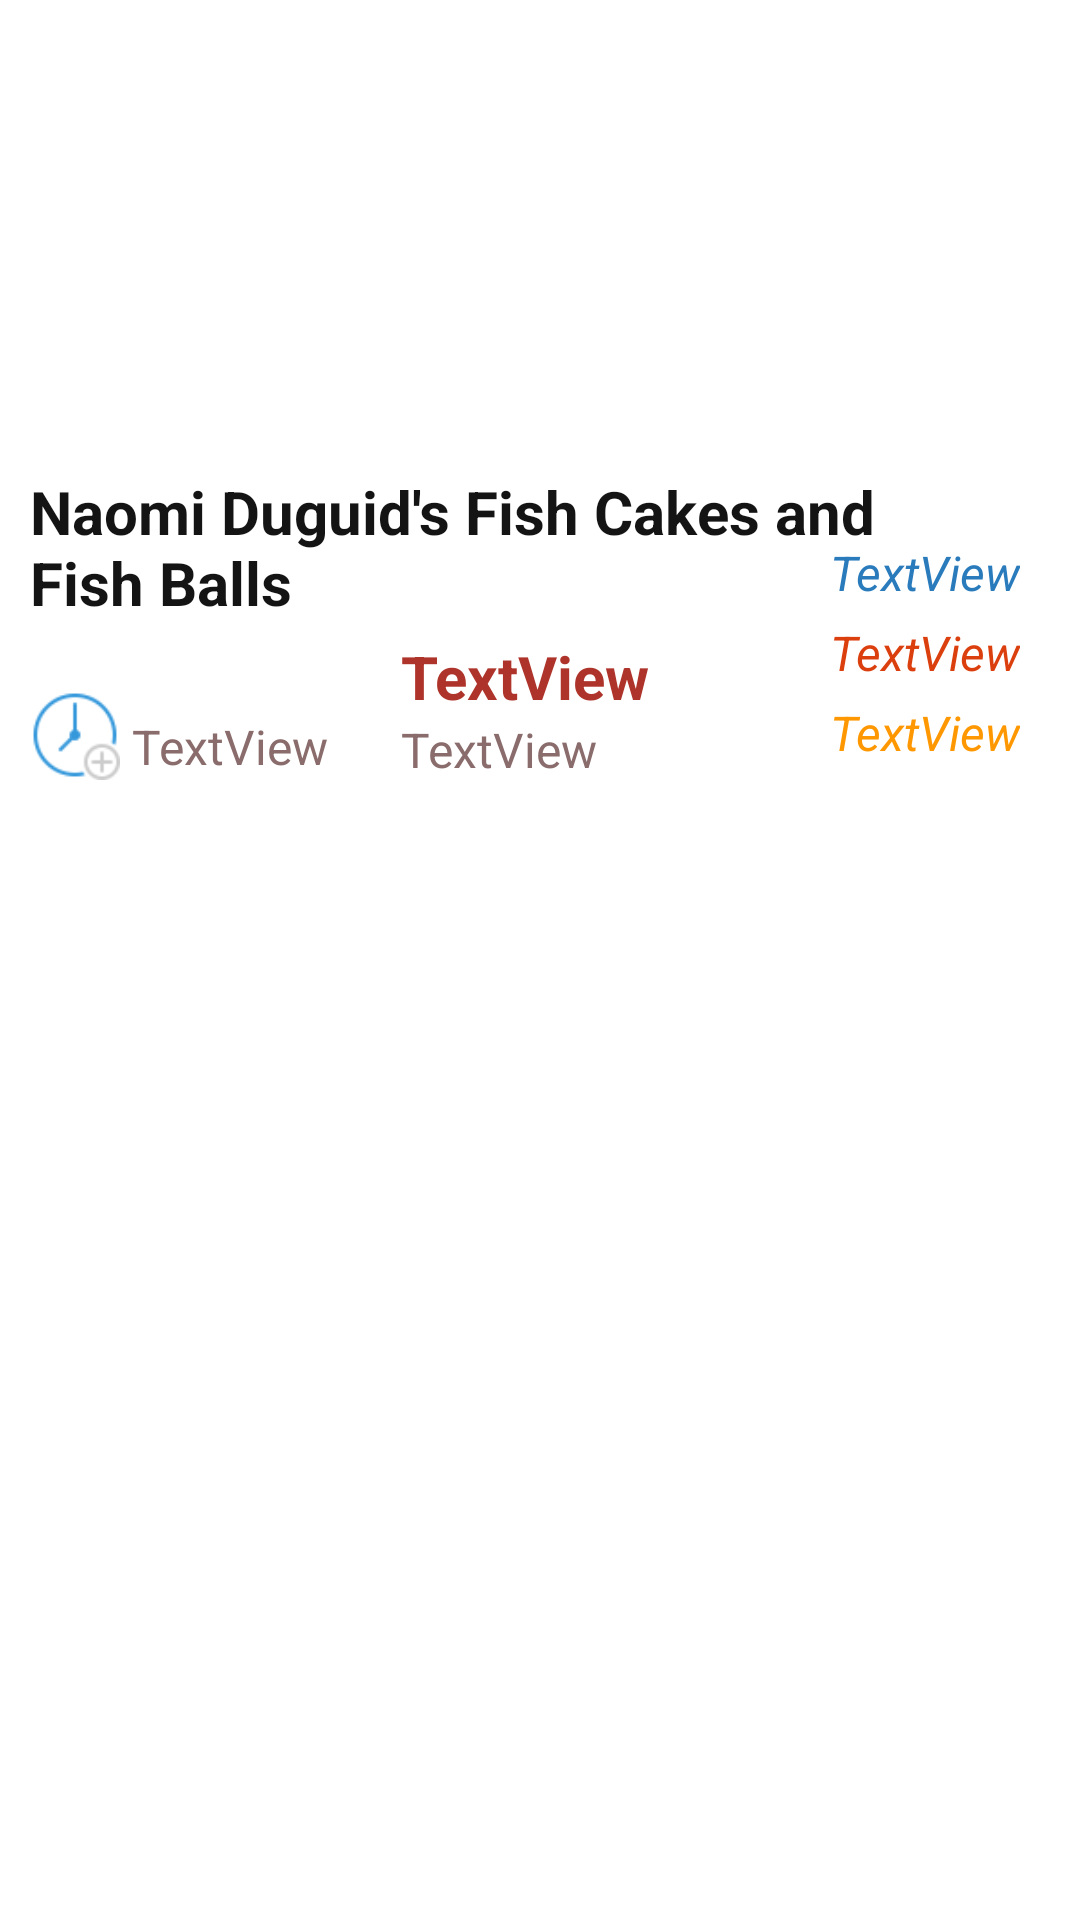

Named icons in this screenshot (1080 x 1920) and their bounding boxes, (x1, y1, x2, y2):
time: (33, 693, 120, 780)
